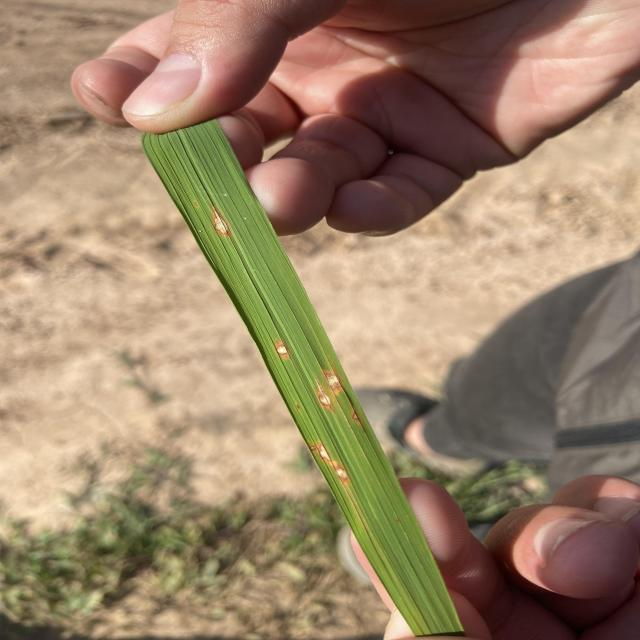Dao on: (315, 379, 333, 410), (330, 461, 348, 483), (214, 209, 228, 234), (325, 372, 343, 391), (319, 443, 331, 460), (276, 341, 287, 356), (352, 413, 358, 420), (310, 445, 316, 450), (194, 202, 198, 206)
